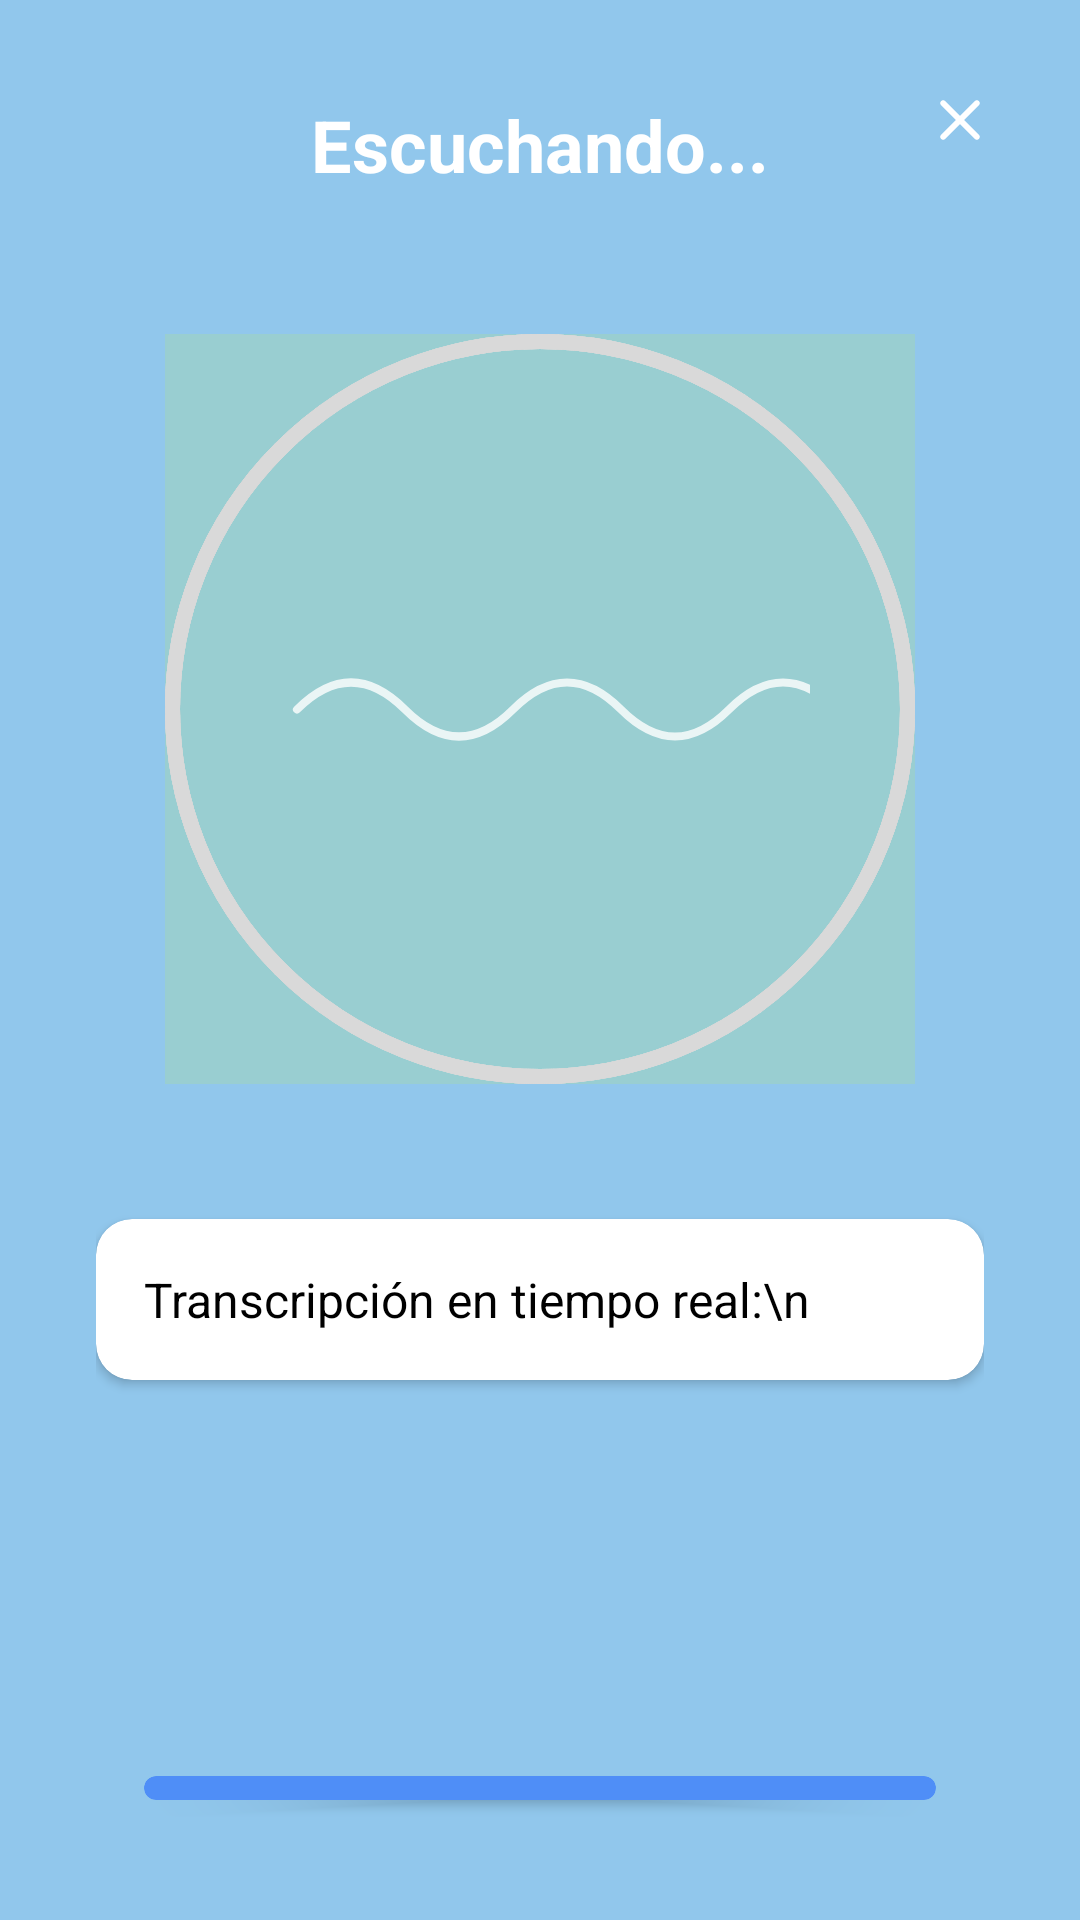

Screen size 1080*1920. Icon name, then its center in pixels as point (x, y):
close: point (960, 120)
